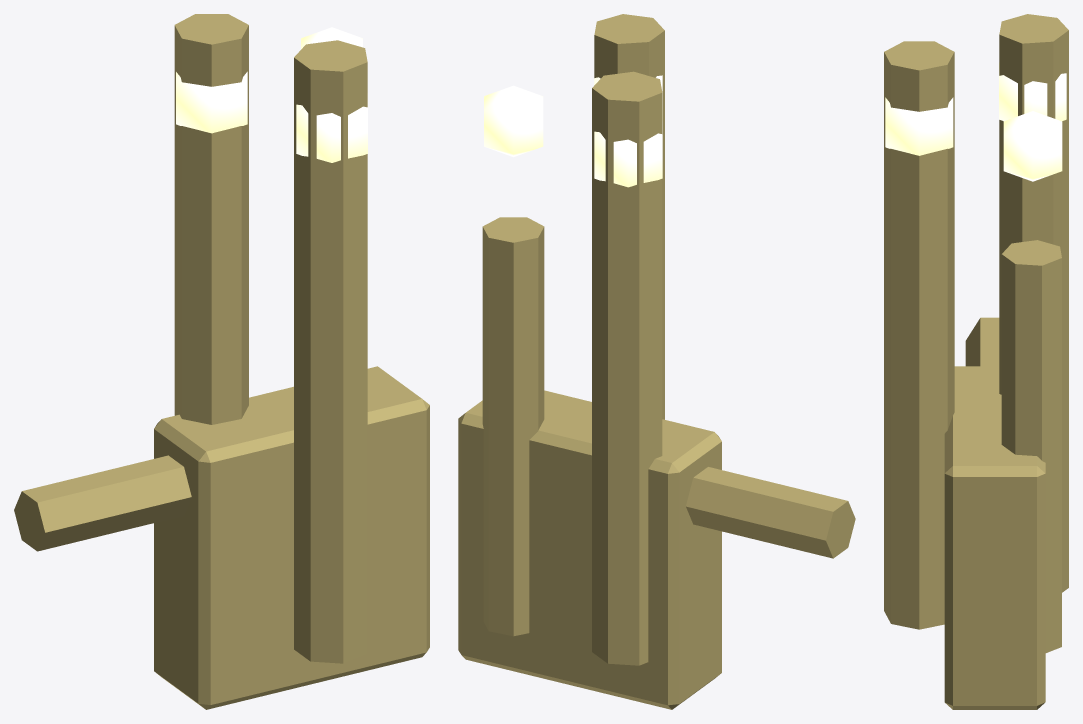
Rendered from dc_abs_pipes.glb.
3 views of the same model, side by side, from view 1: azimuth 30°, elevation 25°; view 2: azimuth 150°, elevation 25°; view 3: azimuth 270°, elevation 25° (orthographic). The views are drawn at different scales.
Parts seen in each view (by area): view 1: part.dc_abs_pipes; view 2: part.dc_abs_pipes; view 3: part.dc_abs_pipes.
Part boxes in pixels (left/top/right/bottom): part.dc_abs_pipes: left=14, top=14, right=429, bottom=709; part.dc_abs_pipes: left=458, top=14, right=855, bottom=709; part.dc_abs_pipes: left=884, top=14, right=1068, bottom=709.
Size of the model in its own units: 0.49 by 0.7931 by 0.2196.
